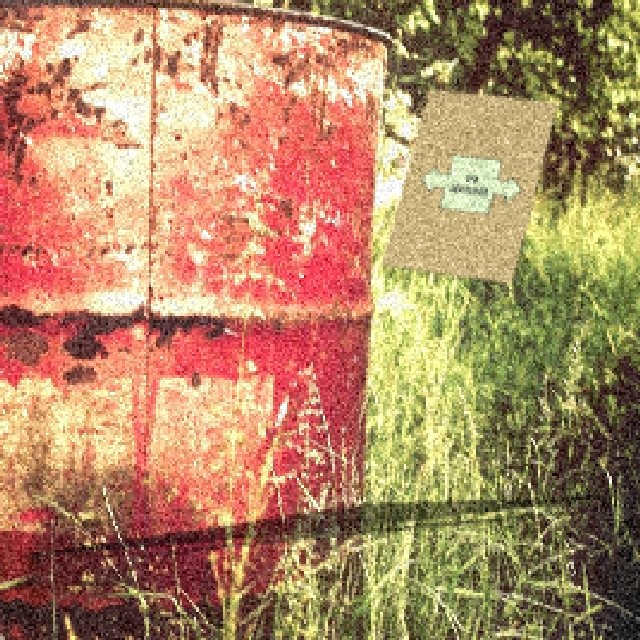GO_AROUND: (412, 144, 527, 222)
